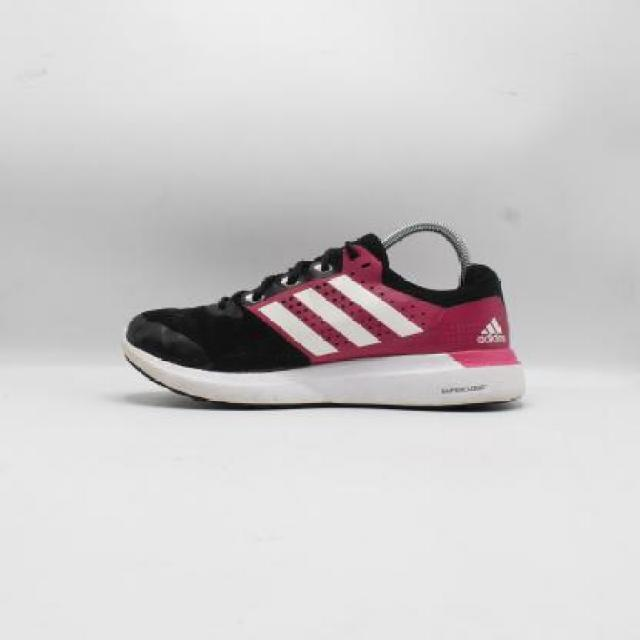Adidas: (258, 267, 422, 360), (476, 312, 509, 348)
